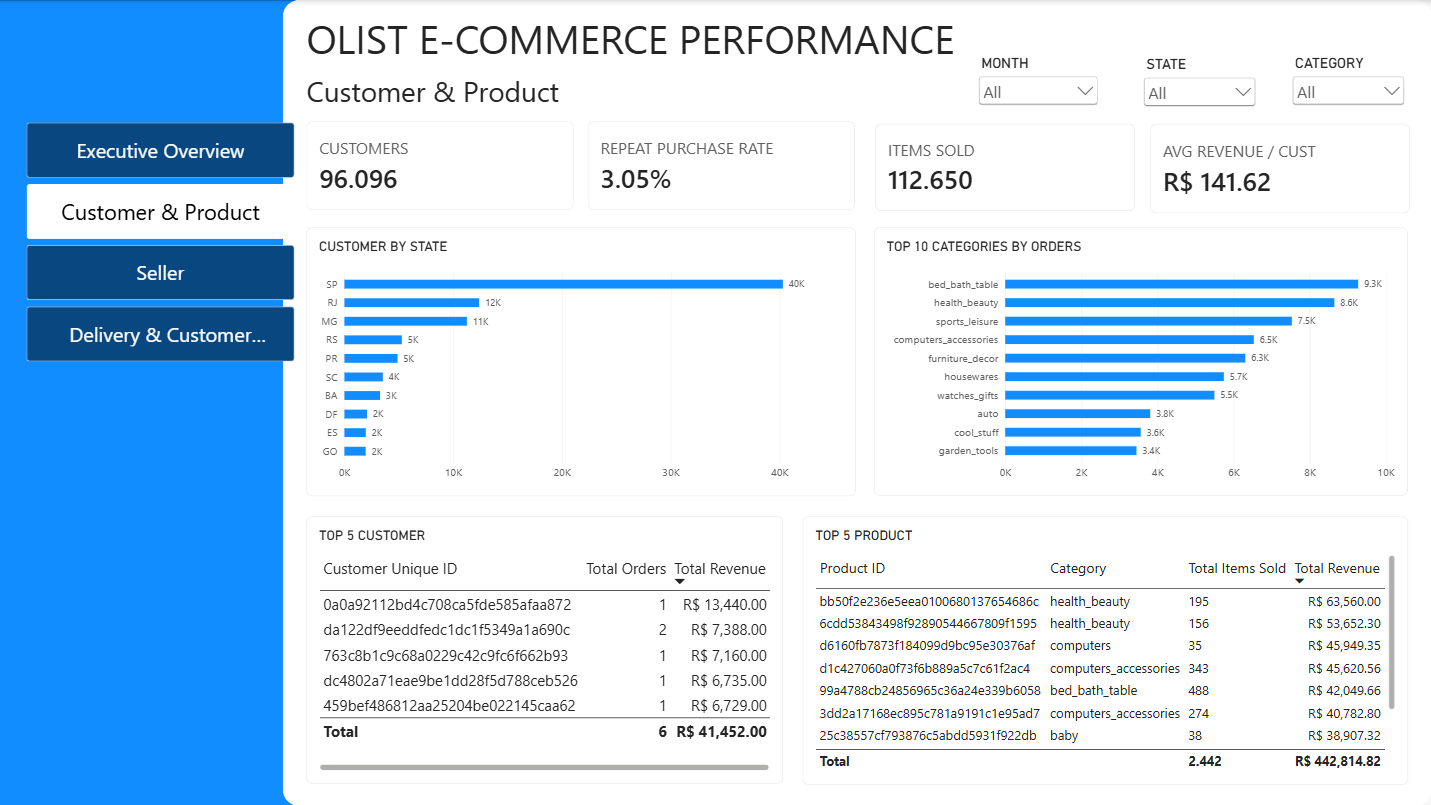

What the dashboard file says about the page in this screenshot:
{"tool":"powerbi","page":{"name":"Customer & Product","canvas":[1920,1080],"ordinal":1},"visuals":[{"type":"shape","box":[0,0,397.3,1080.6],"z":0},{"type":"shape","box":[380.9,0,1539.6,1080.1],"z":1000},{"type":"textbox","box":[411.7,14.4,913.9,82.3],"z":2000},{"type":"textbox","box":[411.7,96.7,913.9,53.5],"z":3000},{"type":"cardVisual","fields":{"Data":["Key_Measure.Repeat Purchase Rate"]},"box":[789.4,163.2,358,119.5],"z":4000},{"type":"cardVisual","fields":{"Data":["Key_Measure.Total Customers"]},"box":[411.8,163.2,358,119.5],"z":5000},{"type":"cardVisual","fields":{"Data":["Key_Measure.Total Items Sold"]},"box":[1174.6,165.1,348,117.7],"z":6000},{"type":"cardVisual","fields":{"Data":["Key_Measure.Avg Revenue per Cust"]},"box":[1542.8,165.1,348,120],"z":7000},{"type":"barChart","title":"CUSTOMER BY STATE","fields":{"Category":["vw_dim_customers.customer_state"],"Y":["Key_Measure.Total Customers"]},"box":[411.6,305.2,736,360],"z":8000},{"type":"tableEx","title":"TOP 5 CUSTOMER","fields":{"Values":["vw_dim_customers.customer_unique_id","Key_Measure.Total Orders","Key_Measure.Total Revenue"]},"box":[411.7,691.6,638.1,358.1],"z":9000},{"type":"tableEx","title":"TOP 5 PRODUCT","fields":{"Values":["vw_dim_products.product_id","vw_dim_products.product_category_name","Key_Measure.Total Items Sold","Key_Measure.Total Revenue"]},"box":[1076.5,691.6,811,360.2],"z":10000},{"type":"slicer","fields":{"Values":["dim_date.Month Year"]},"box":[1307.5,74,168.9,89.2],"z":11000},{"type":"slicer","fields":{"Values":["vw_dim_customers.customer_state"]},"box":[1529.5,75.9,159.4,89.2],"z":12000},{"type":"pageNavigator","box":[36.7,164.3,360,321.5],"z":13000},{"type":"slicer","fields":{"Values":["vw_dim_products.product_category_name"]},"box":[1728.7,74,159.4,89.2],"z":14000},{"type":"barChart","title":"TOP 10 CATEGORIES BY ORDERS","fields":{"Category":["vw_dim_products.product_category_name"],"Y":["Key_Measure.Total Orders"]},"box":[1171.8,304.9,715.1,359.3],"z":15000}]}

Visuals, with their boxes on the page's 1920x1080 design canvas (x1, y1, x2, y2). These are canvas units, not pixel positions in the 1431x805 screenshot, which may show the page scaled, cropped or inside an application window:
shape: bbox=[0, 0, 397, 1081]
shape: bbox=[381, 0, 1920, 1080]
textbox: bbox=[412, 14, 1326, 97]
textbox: bbox=[412, 97, 1326, 150]
cardVisual - Key_Measure.Repeat Purchase Rate: bbox=[789, 163, 1147, 283]
cardVisual - Key_Measure.Total Customers: bbox=[412, 163, 770, 283]
cardVisual - Key_Measure.Total Items Sold: bbox=[1175, 165, 1523, 283]
cardVisual - Key_Measure.Avg Revenue per Cust: bbox=[1543, 165, 1891, 285]
"CUSTOMER BY STATE" barChart: bbox=[412, 305, 1148, 665]
"TOP 5 CUSTOMER" tableEx: bbox=[412, 692, 1050, 1050]
"TOP 5 PRODUCT" tableEx: bbox=[1076, 692, 1888, 1052]
slicer - dim_date.Month Year: bbox=[1308, 74, 1476, 163]
slicer - vw_dim_customers.customer_state: bbox=[1530, 76, 1689, 165]
pageNavigator: bbox=[37, 164, 397, 486]
slicer - vw_dim_products.product_category_name: bbox=[1729, 74, 1888, 163]
"TOP 10 CATEGORIES BY ORDERS" barChart: bbox=[1172, 305, 1887, 664]
